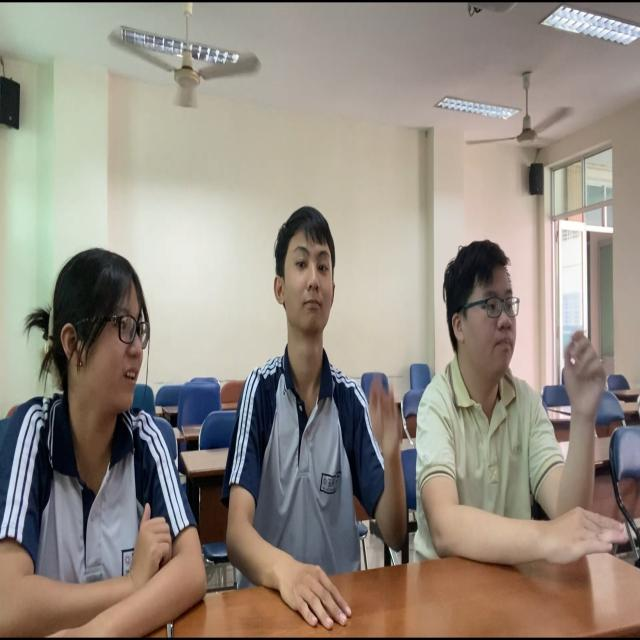raise_hand: (414, 241, 612, 586)
